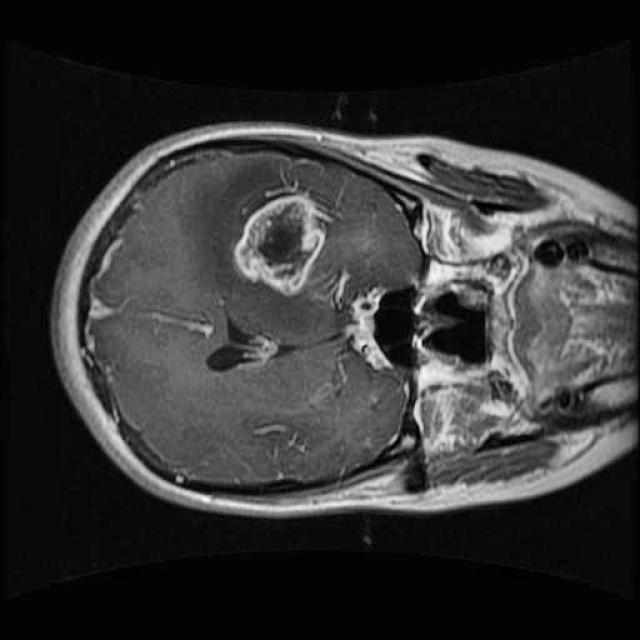Tumor: (222, 172, 342, 308)
